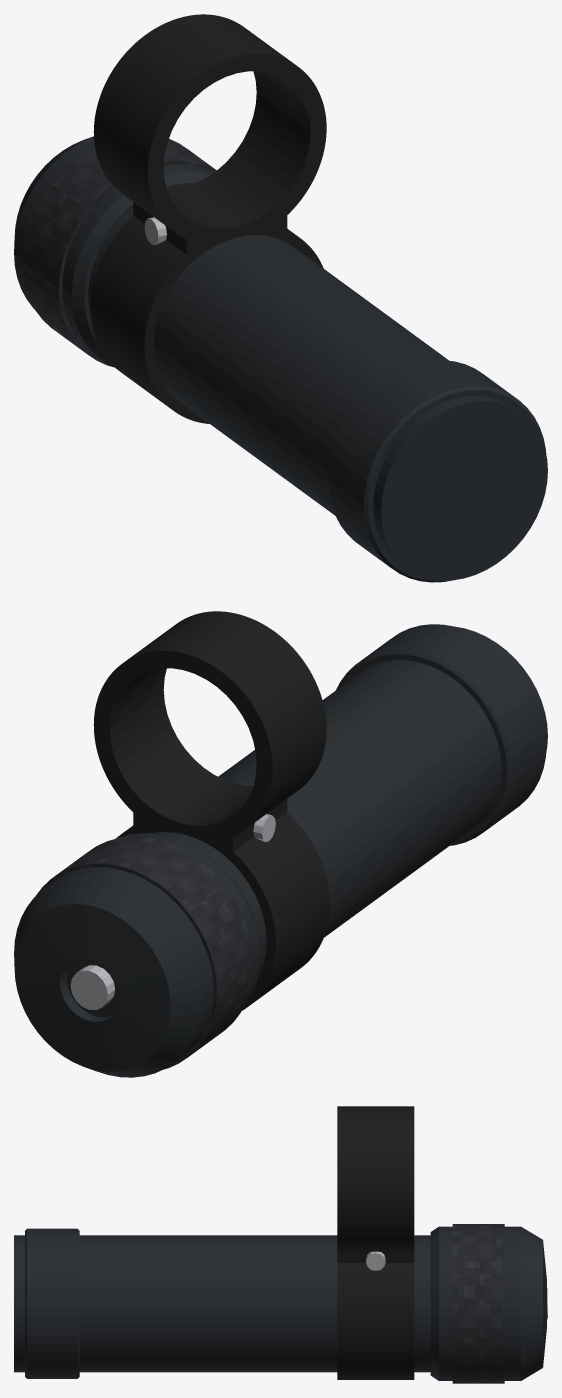
The model's file is prolongador_tubo_12.glb.
3 renders of one model, top to bottom at view 1: azimuth 30°, elevation 25°; view 2: azimuth 150°, elevation 25°; view 3: azimuth 270°, elevation 25°, orthographic. The views are drawn at different scales.
Visible parts, largest first — view 1: prolongador_tubo_12_aco_oxidado, prolongador_tubo_12_aluminio_preto, prolongador_tubo_12_recartilhado; view 2: prolongador_tubo_12_aco_oxidado, prolongador_tubo_12_aluminio_preto, prolongador_tubo_12_recartilhado, prolongador_tubo_12_aco_inox; view 3: prolongador_tubo_12_aco_oxidado, prolongador_tubo_12_aluminio_preto, prolongador_tubo_12_recartilhado, prolongador_tubo_12_aco_inox.
Boxes of the visible parts, <box> form: prolongador_tubo_12_aco_oxidado: <box>14,136,547,582</box>; prolongador_tubo_12_aluminio_preto: <box>90,14,326,423</box>; prolongador_tubo_12_recartilhado: <box>22,139,216,367</box>; prolongador_tubo_12_aco_oxidado: <box>14,624,547,1077</box>; prolongador_tubo_12_aluminio_preto: <box>93,611,329,1010</box>; prolongador_tubo_12_recartilhado: <box>36,836,253,1069</box>; prolongador_tubo_12_aco_inox: <box>70,814,275,1010</box>; prolongador_tubo_12_aco_oxidado: <box>14,1226,546,1380</box>; prolongador_tubo_12_aluminio_preto: <box>337,1106,414,1379</box>; prolongador_tubo_12_recartilhado: <box>452,1224,504,1383</box>; prolongador_tubo_12_aco_inox: <box>366,1251,547,1319</box>.
Size of the model in its own units: 0.0292 by 0.053 by 0.0974.
4 materials, 1 textured.
